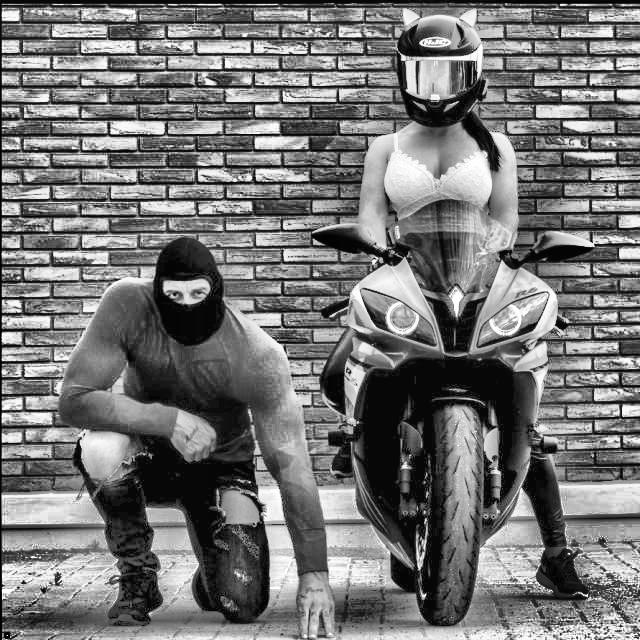Helmet: (392, 12, 490, 130)
